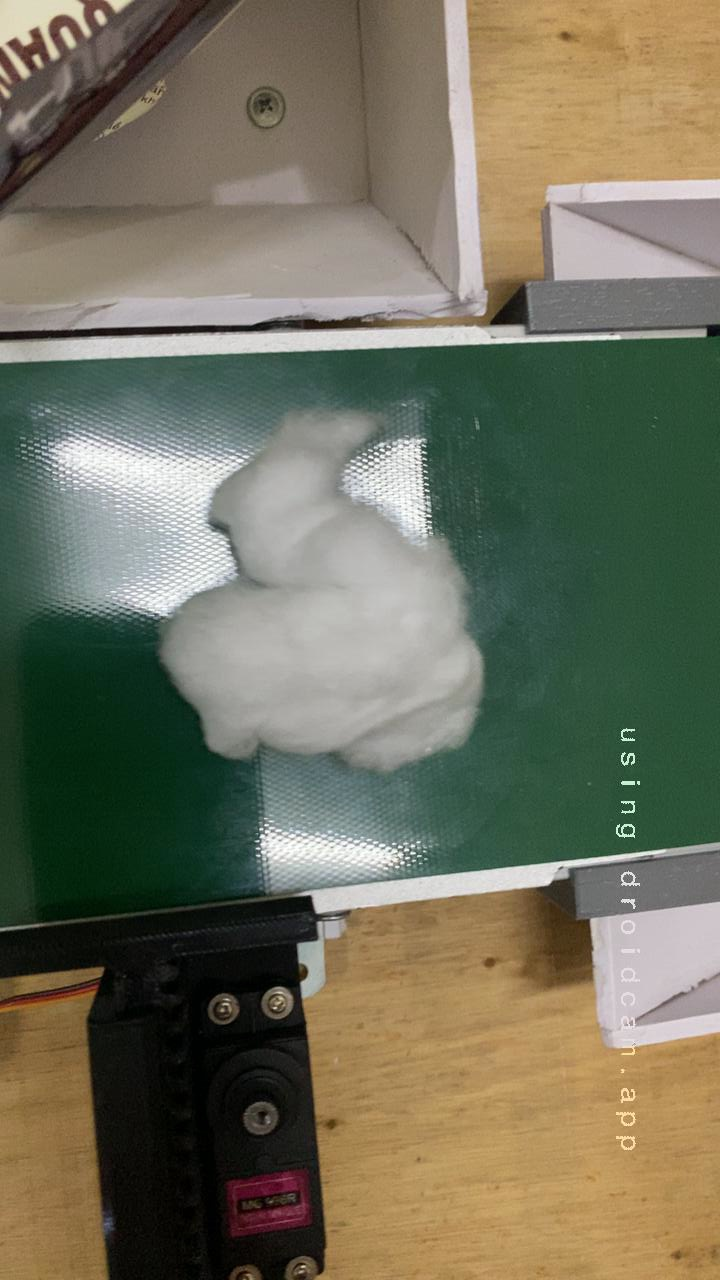cotton: (131, 387, 527, 805)
